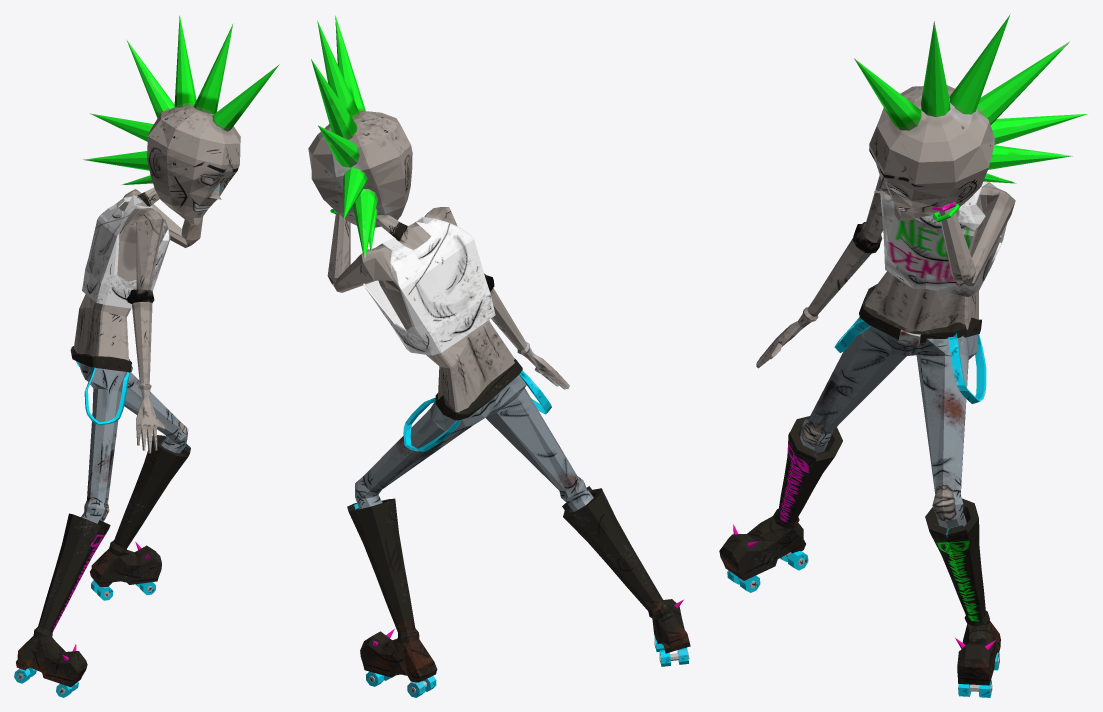
File: punkAnimation_000045.obj
3 renders of one model, left to right at view 1: azimuth 30°, elevation 25°; view 2: azimuth 150°, elevation 25°; view 3: azimuth 270°, elevation 25°, orthographic. The views are drawn at different scales.
Parts seen in each view (by area): view 1: Cube.004_Cube.003; view 2: Cube.004_Cube.003; view 3: Cube.004_Cube.003.
Boxes of the visible parts, x1,y1,x2,y2 form: Cube.004_Cube.003: (14, 15, 279, 697); Cube.004_Cube.003: (308, 15, 690, 697); Cube.004_Cube.003: (719, 14, 1087, 697).
Size of the model in its own units: 3.63 by 6.69 by 3.11.
